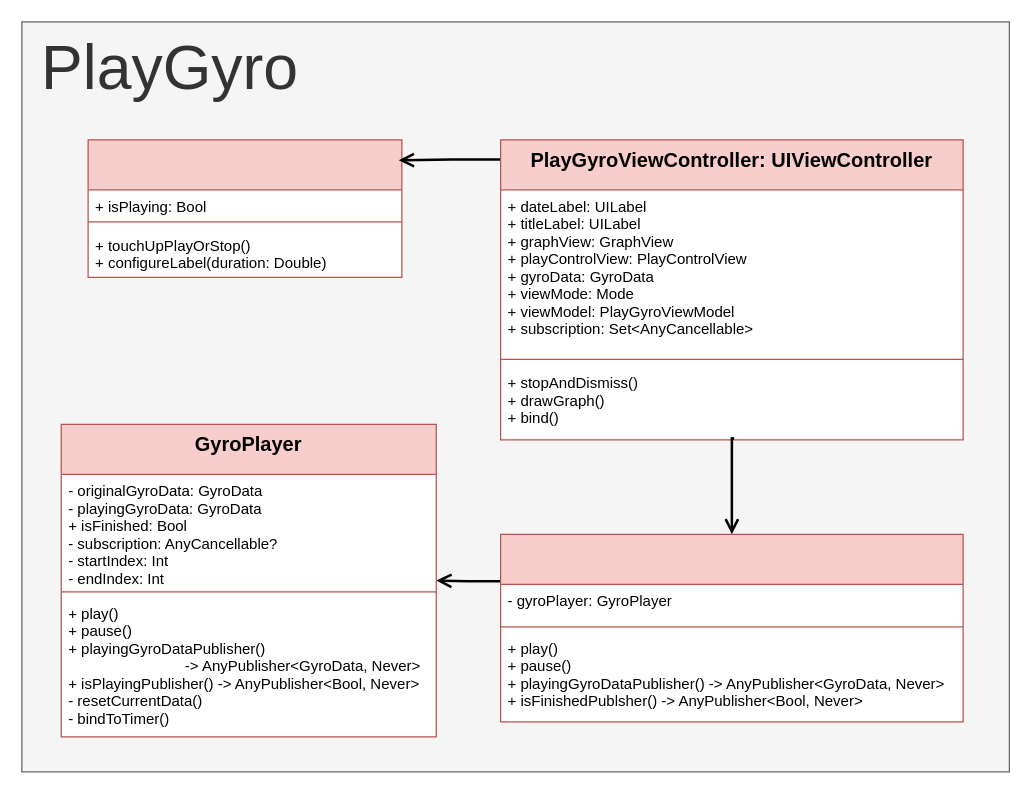
Some shapes in this 1031 by 794 pixel diagram are drawn without their labels. The box of each missing label's shape, as (x1, y1, x2, y2) in pixels:
PlayControlView: UIView: (87, 138, 402, 277)
PlayGyroViewModel: (499, 533, 963, 722)
